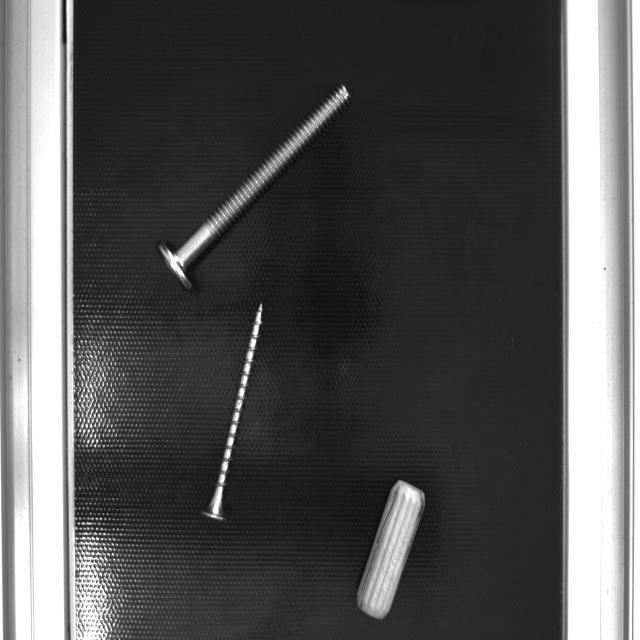Chot go: (352, 479, 428, 623)
bulon: (174, 84, 351, 268)
vit xoan: (198, 302, 266, 523)
